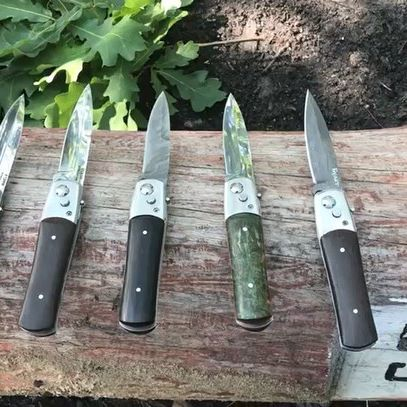knife: (303, 89, 379, 352), (17, 84, 92, 338), (117, 91, 170, 334), (222, 93, 273, 332)
